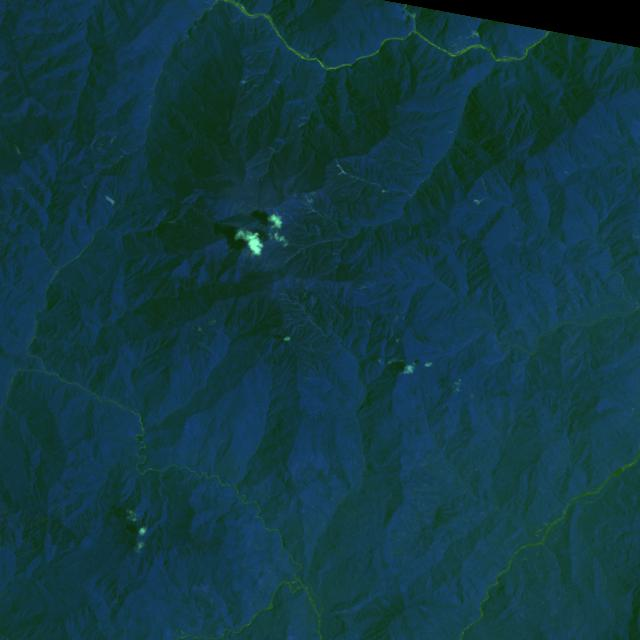landslides: (201, 342, 220, 363), (290, 322, 310, 337), (246, 159, 269, 170), (240, 74, 265, 84), (310, 297, 319, 317), (356, 183, 367, 199), (403, 217, 412, 235), (474, 197, 490, 207), (106, 196, 116, 208), (243, 77, 258, 85), (234, 14, 245, 24), (82, 182, 90, 195)
